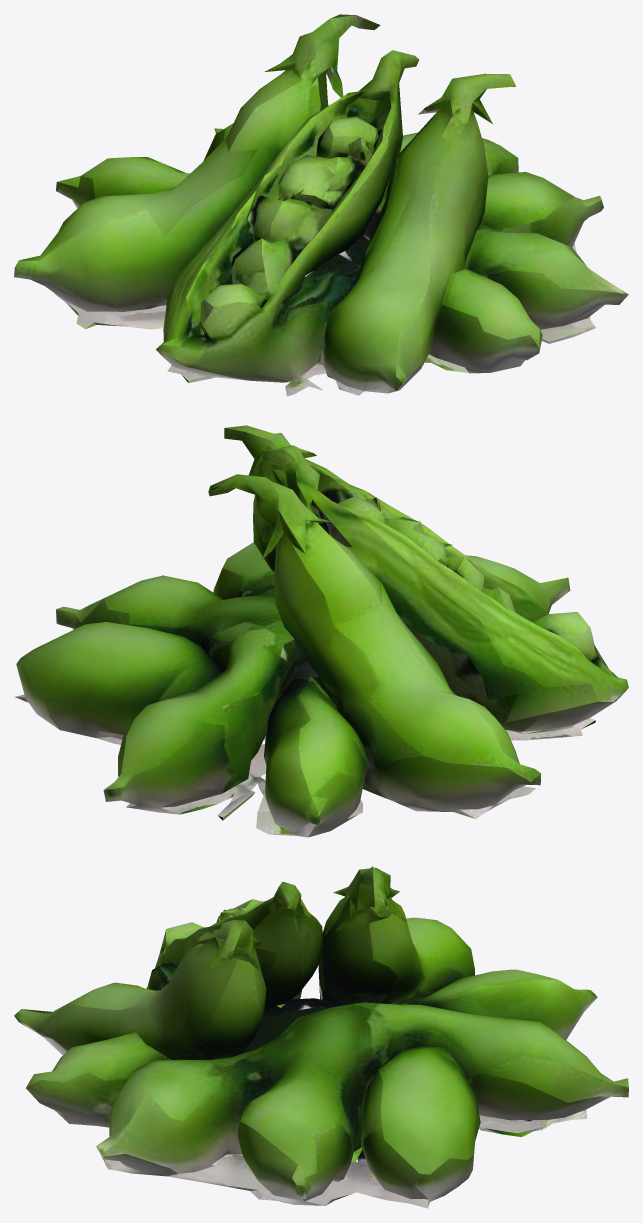
File: snap_pea.glb
3 renders of one model, top to bottom at view 1: azimuth 30°, elevation 25°; view 2: azimuth 150°, elevation 25°; view 3: azimuth 270°, elevation 25°, orthographic. The views are drawn at different scales.
Visible parts, largest first — view 1: snap_pea; view 2: snap_pea; view 3: snap_pea.
Part boxes in pixels (x1=…): snap_pea: x1=14, y1=14, x2=628, y2=396; snap_pea: x1=14, y1=425, x2=628, y2=837; snap_pea: x1=14, y1=866, x2=628, y2=1208.
Bounding box in the file's own units: 0.9751 × 0.4333 × 1.
Materials: 1 (1 with a texture image).
